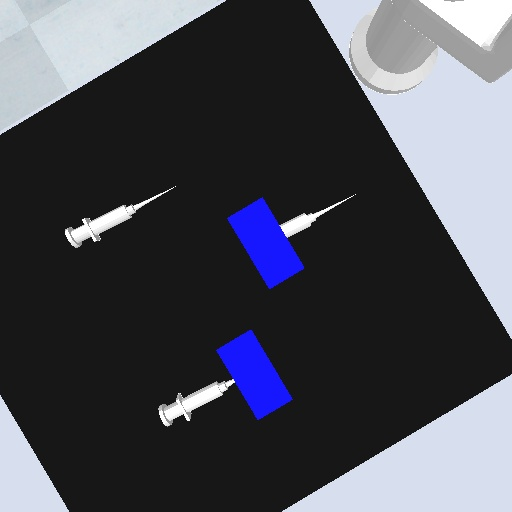jeringuilla: (62, 182, 180, 253), (155, 376, 238, 429), (278, 191, 360, 241)
